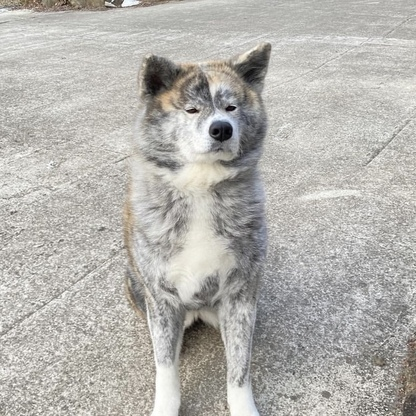akita: (117, 39, 281, 416)
